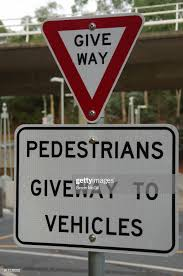giveway: (39, 12, 150, 124), (46, 51, 127, 121), (41, 16, 103, 98), (32, 7, 124, 43), (102, 15, 141, 89)
